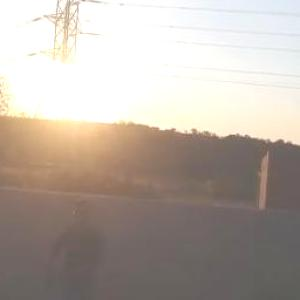follow: (36, 190, 109, 299)
